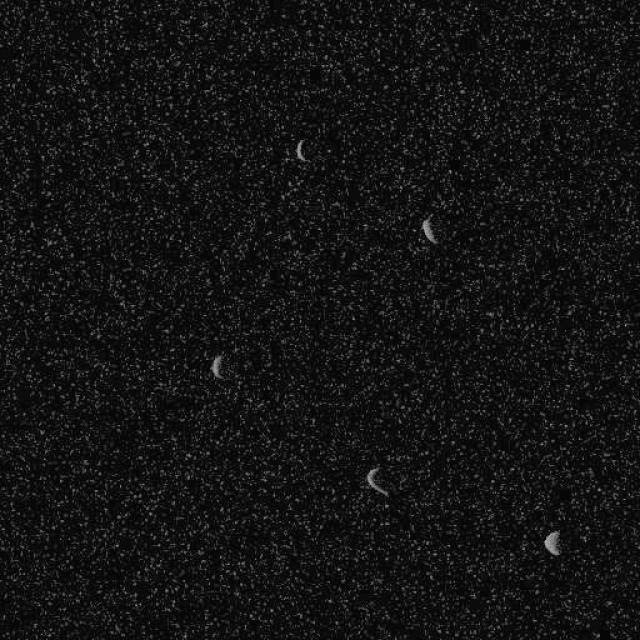D2: (365, 465, 389, 496), (420, 216, 439, 245), (542, 529, 562, 556), (209, 354, 225, 380), (294, 138, 308, 162)
